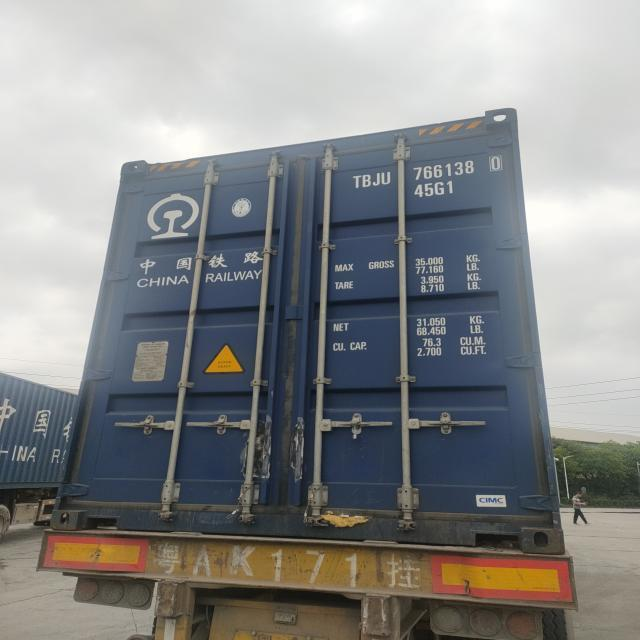ISO: (413, 181, 451, 198)
container_number: (354, 158, 509, 178)
